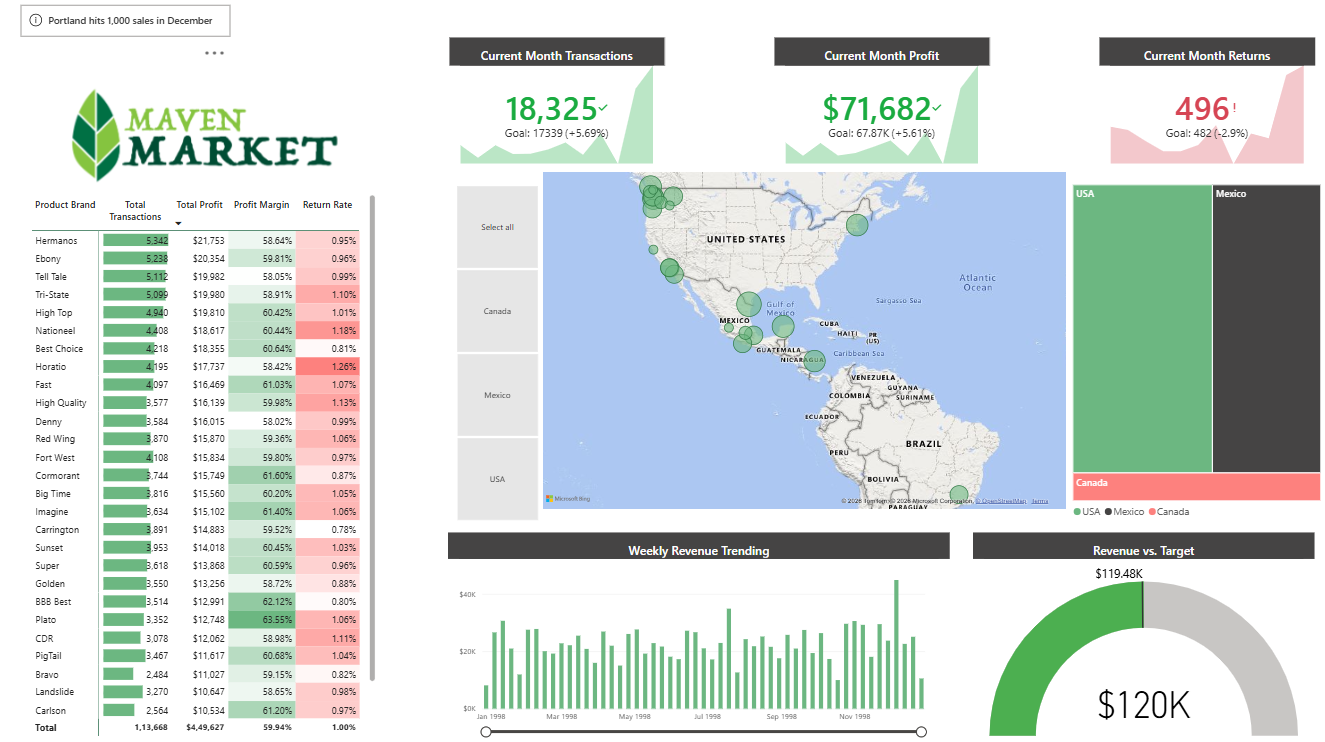

The page's visual inventory and layout, read from the dashboard file:
{"tool":"powerbi","page":{"name":"Performance","canvas":[1920,1080],"ordinal":0},"visuals":[{"type":"pivotTable","fields":{"Rows":["Products.Product Brand"],"Values":["Transaction Data.Total Transactions","Transaction Data.Total Profit","Transaction Data.Profit Margin","Return data.Return Rate"]},"box":[32.4,271.5,526.7,809],"z":0},{"type":"kpi","title":"Current Month Transactions","fields":{"Goal":["Transaction Data.Last Month transactions"],"Indicator":["Transaction Data.Total Transactions"],"TrendLine":["Calendar.Start of Month"]},"box":[648.4,58.8,309.2,197.8],"z":1000},{"type":"kpi","title":"Current Month Profit","fields":{"Goal":["Transaction Data.Last Month Profit"],"Indicator":["Transaction Data.Total Profit"],"TrendLine":["Calendar.Start of Month"]},"box":[1115.7,58.8,309.2,197.8],"z":2000},{"type":"kpi","title":"Current Month Returns","fields":{"Goal":["Transaction Data.Last Month Returns"],"Indicator":["Return data.Total Returns"],"TrendLine":["Calendar.Start of Month"]},"box":[1583,58.7,310.2,198],"z":3000},{"type":"map","fields":{"Category":["Stores.City"],"Size":["Transaction Data.Total Transactions"]},"box":[767.7,239.6,784.1,514.4],"z":4000},{"type":"slicer","fields":{"Values":["Stores.Country/Region"]},"box":[639.4,270.9,154.6,483.6],"z":5000},{"type":"treemap","fields":{"Group":["Stores.Store Country","Stores.Store State","Stores.Store City"],"Values":["Transaction Data.Total Transactions"]},"box":[1530,256.7,388.2,514.4],"z":6000},{"type":"columnChart","title":"Weekly Revenue Trending","fields":{"Category":["Calendar.Start of Week"],"Y":["Transaction Data.Total Revenue"]},"box":[647.6,771.1,721.8,308.7],"z":7000},{"type":"gauge","title":"Revenue vs. Target","fields":{"TargetValue":["Transaction Data.Revenue Target"],"Y":["Transaction Data.Total Revenue"]},"box":[1402.1,771.1,491.1,308.7],"z":8000},{"type":"actionButton","box":[32.7,0,526.9,286.8],"z":9000},{"type":"actionButton","box":[32.4,12.6,302,46.7],"z":10000}]}

Visuals, with their boxes in screenshot pixels (x1, y1, x2, y2), scaled from the page's 1920x1080 canvas onto the 1325x742 screenshot:
pivotTable - Products.Product Brand x Transaction Data.Total Transactions: <box>22,187,386,741</box>
"Current Month Transactions" kpi: <box>447,40,661,176</box>
"Current Month Profit" kpi: <box>770,40,983,176</box>
"Current Month Returns" kpi: <box>1092,40,1307,176</box>
map - Stores.City x Transaction Data.Total Transactions: <box>530,165,1071,518</box>
slicer - Stores.Country/Region: <box>441,186,548,518</box>
treemap - Stores.Store Country x Stores.Store State: <box>1056,176,1324,530</box>
"Weekly Revenue Trending" columnChart: <box>447,530,945,741</box>
"Revenue vs. Target" gauge: <box>968,530,1307,741</box>
actionButton: <box>23,0,386,197</box>
actionButton: <box>22,9,231,41</box>
